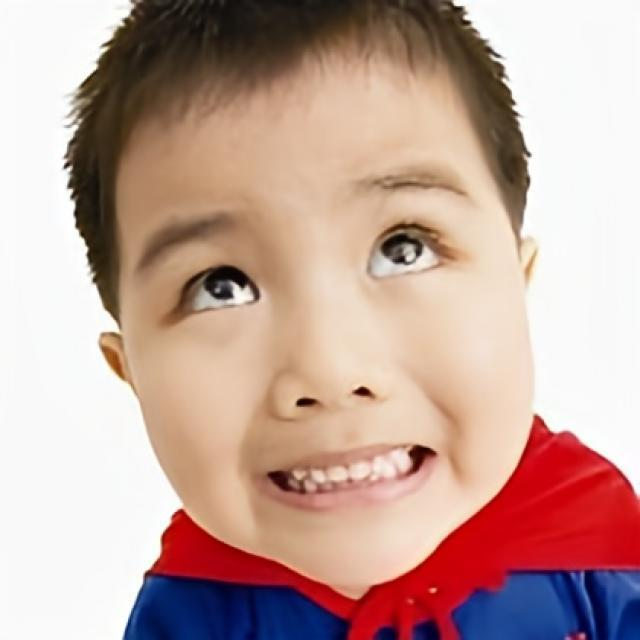fear: (125, 37, 526, 586)
